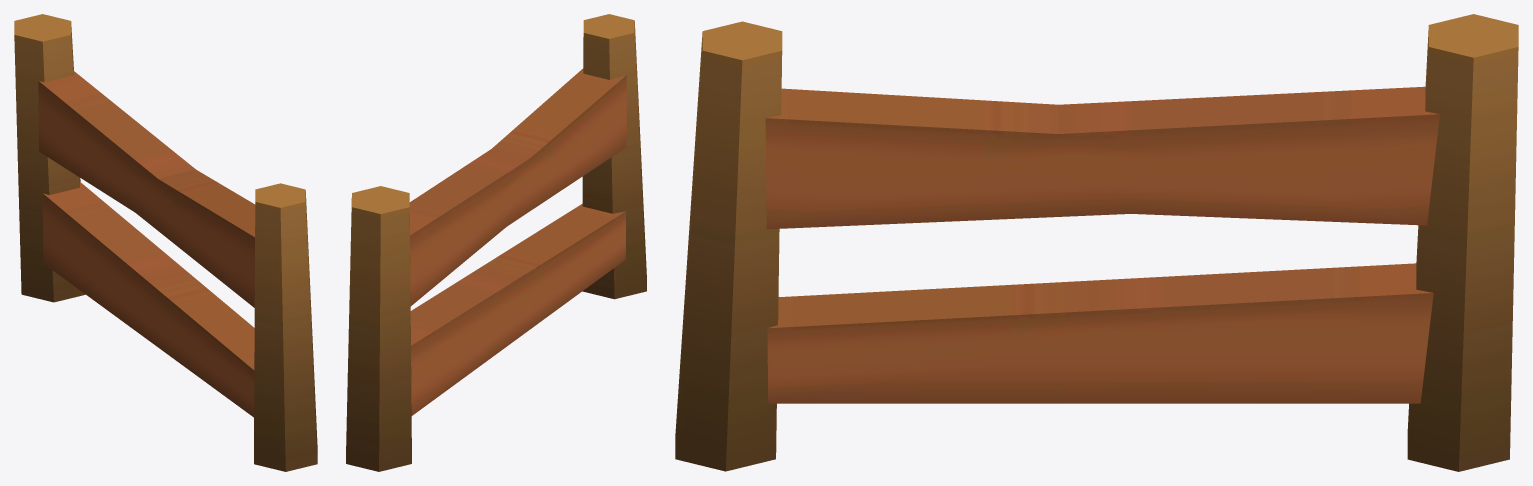
File: Fence_03.fbx
3 views of the same model, side by side, from view 1: azimuth 30°, elevation 25°; view 2: azimuth 150°, elevation 25°; view 3: azimuth 270°, elevation 25° (orthographic). The views are drawn at different scales.
Visible parts, largest first — view 1: pCube36; view 2: pCube36; view 3: pCube36.
Boxes of the visible parts, bbox=[...] form: pCube36: bbox=[14, 14, 317, 471]; pCube36: bbox=[346, 14, 646, 471]; pCube36: bbox=[675, 14, 1518, 471].
Bounding box in the file's own units: 0.1876 × 0.6848 × 1.29.
